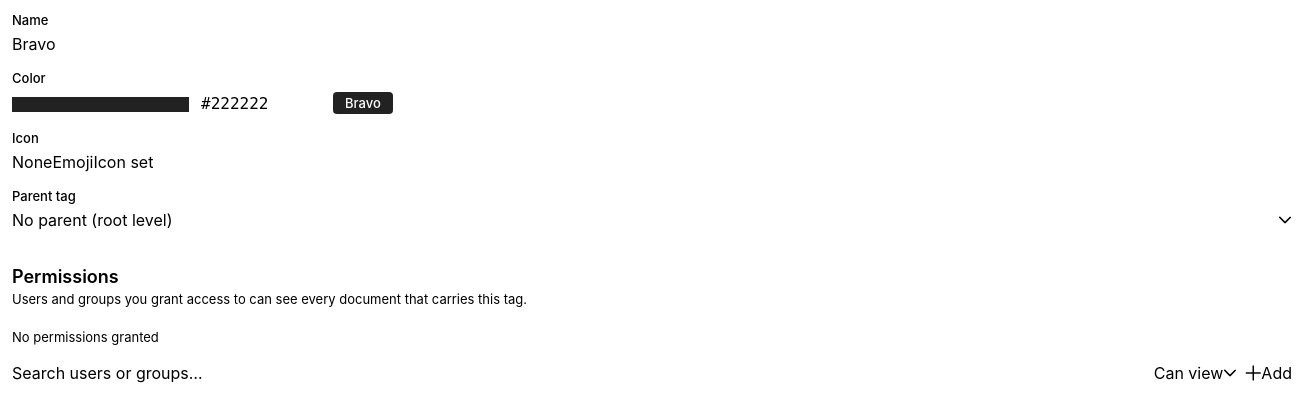
Test: TagForm — the manual hex code field (#303) › puts the current colour back when the field is left empty
This screenshot has width=1304, height=400.
Step 1. Clear the field with id "tag-color-hex" → [261, 103], box [201,94,321,113]
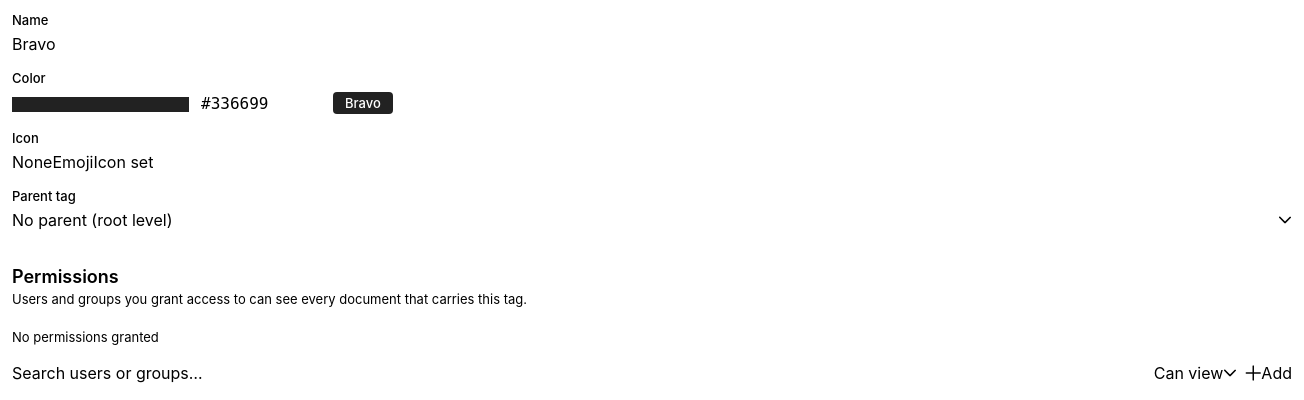
Step 2. Leave the field with id "tag-color-hex", box [201,94,321,113]
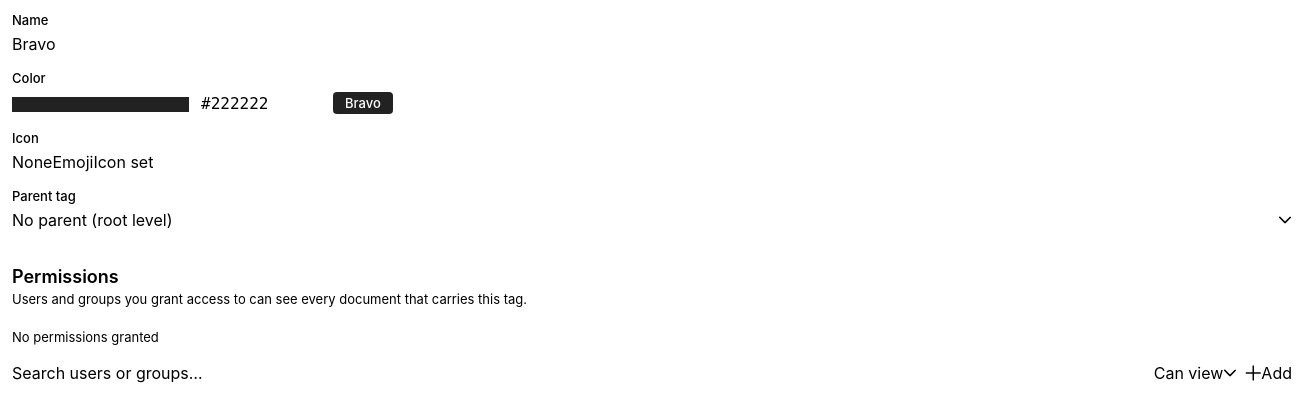
Result: the field with id "tag-color-hex" holds "#222222" at [201,94,321,113]
